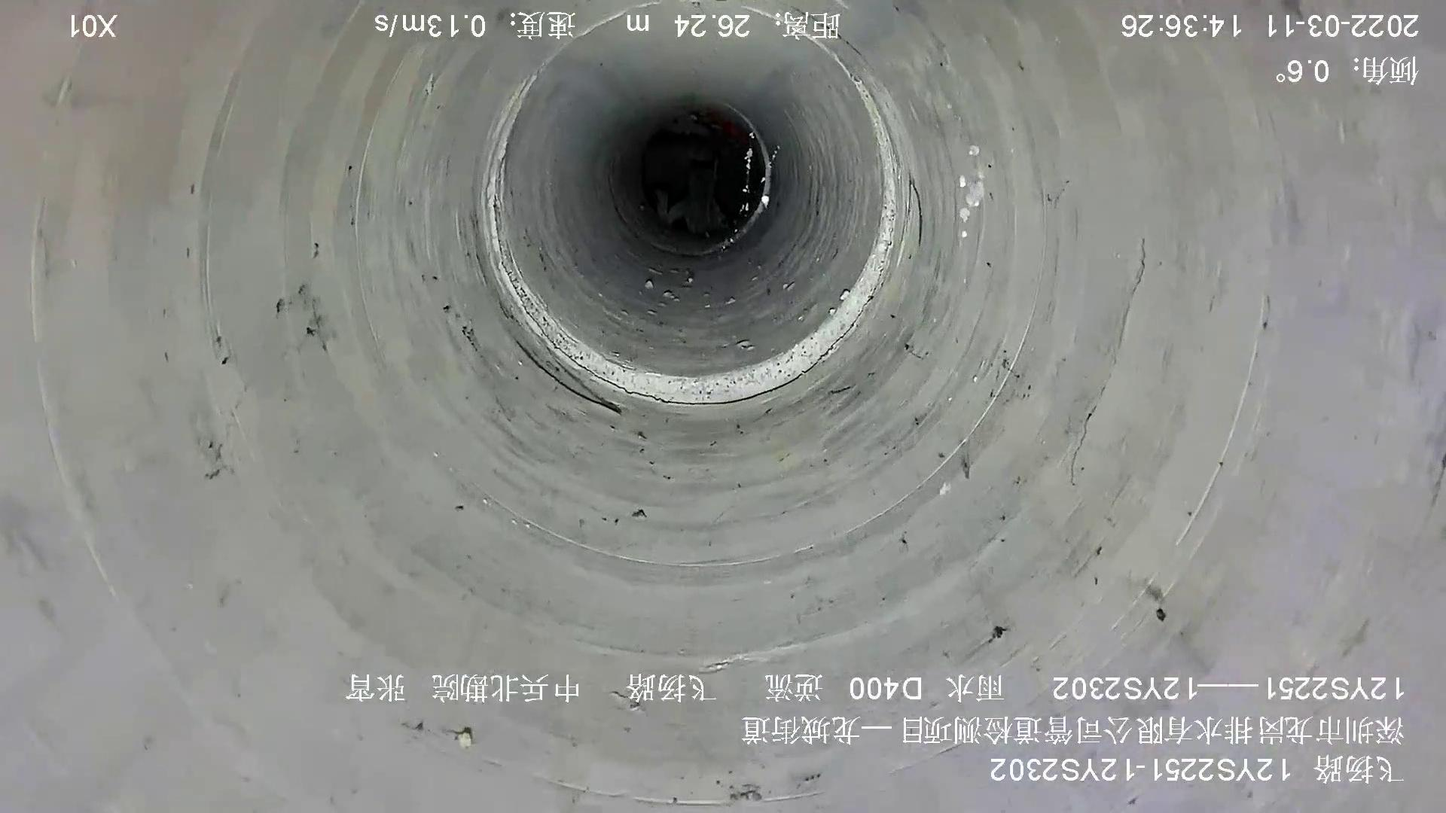CKTJ: (482, 68, 902, 406), (648, 100, 774, 258)
PL: (516, 341, 623, 416)
